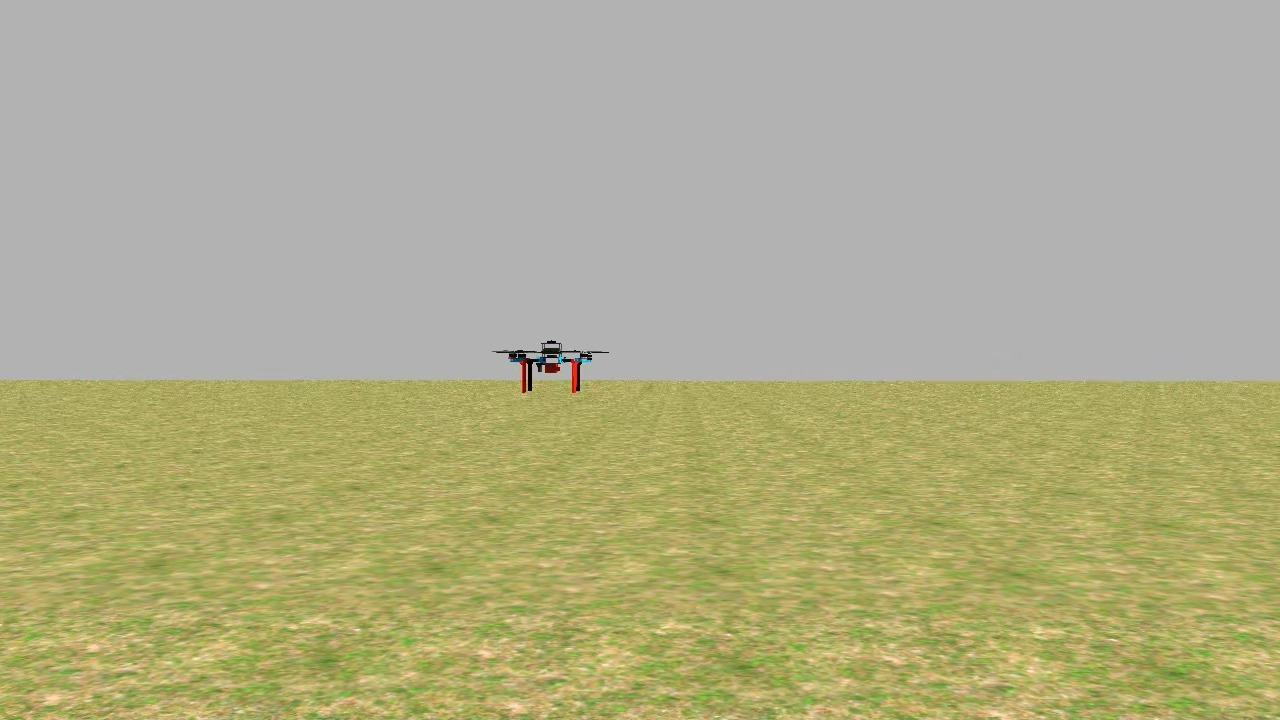UAV: (485, 331, 606, 392)
